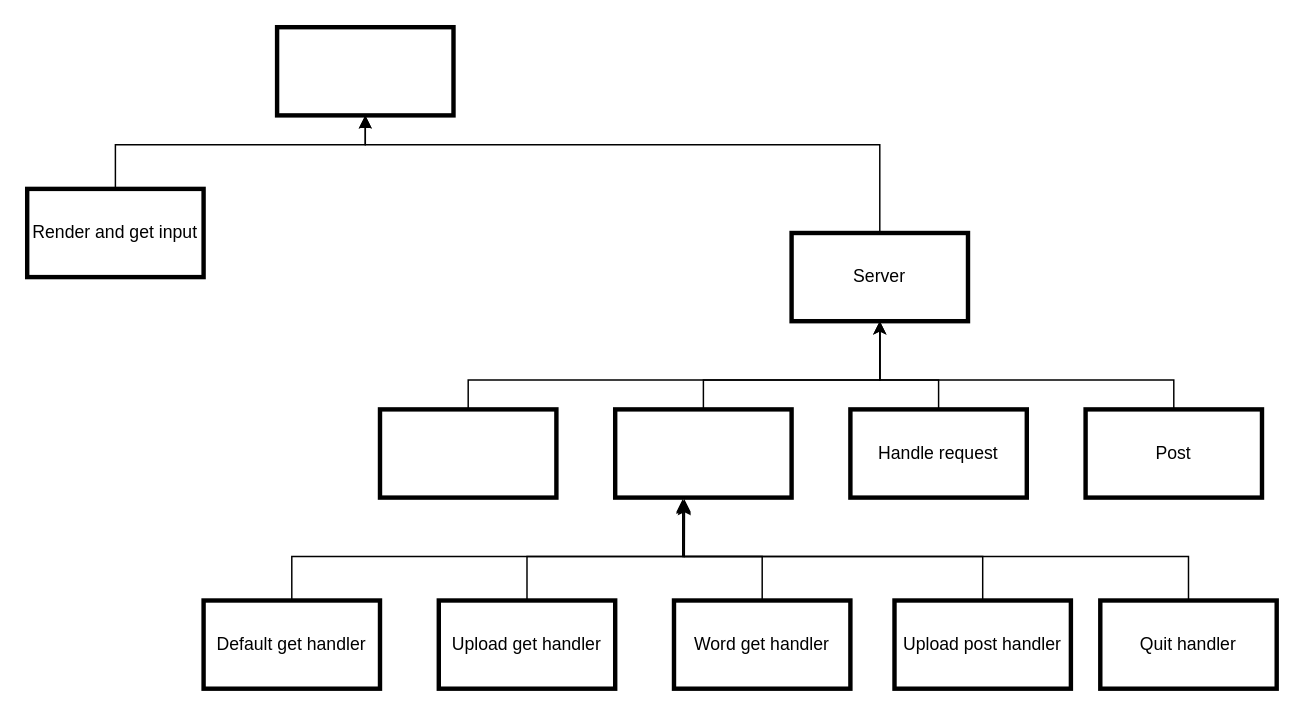
This 1304x716 diagram has some shape labels left out. The centre of each missing label's shape, as x and y in pixels:
"Error state" goes at (467,452).
"Handlers" goes at (702,452).
"Restful word count" goes at (364,70).
